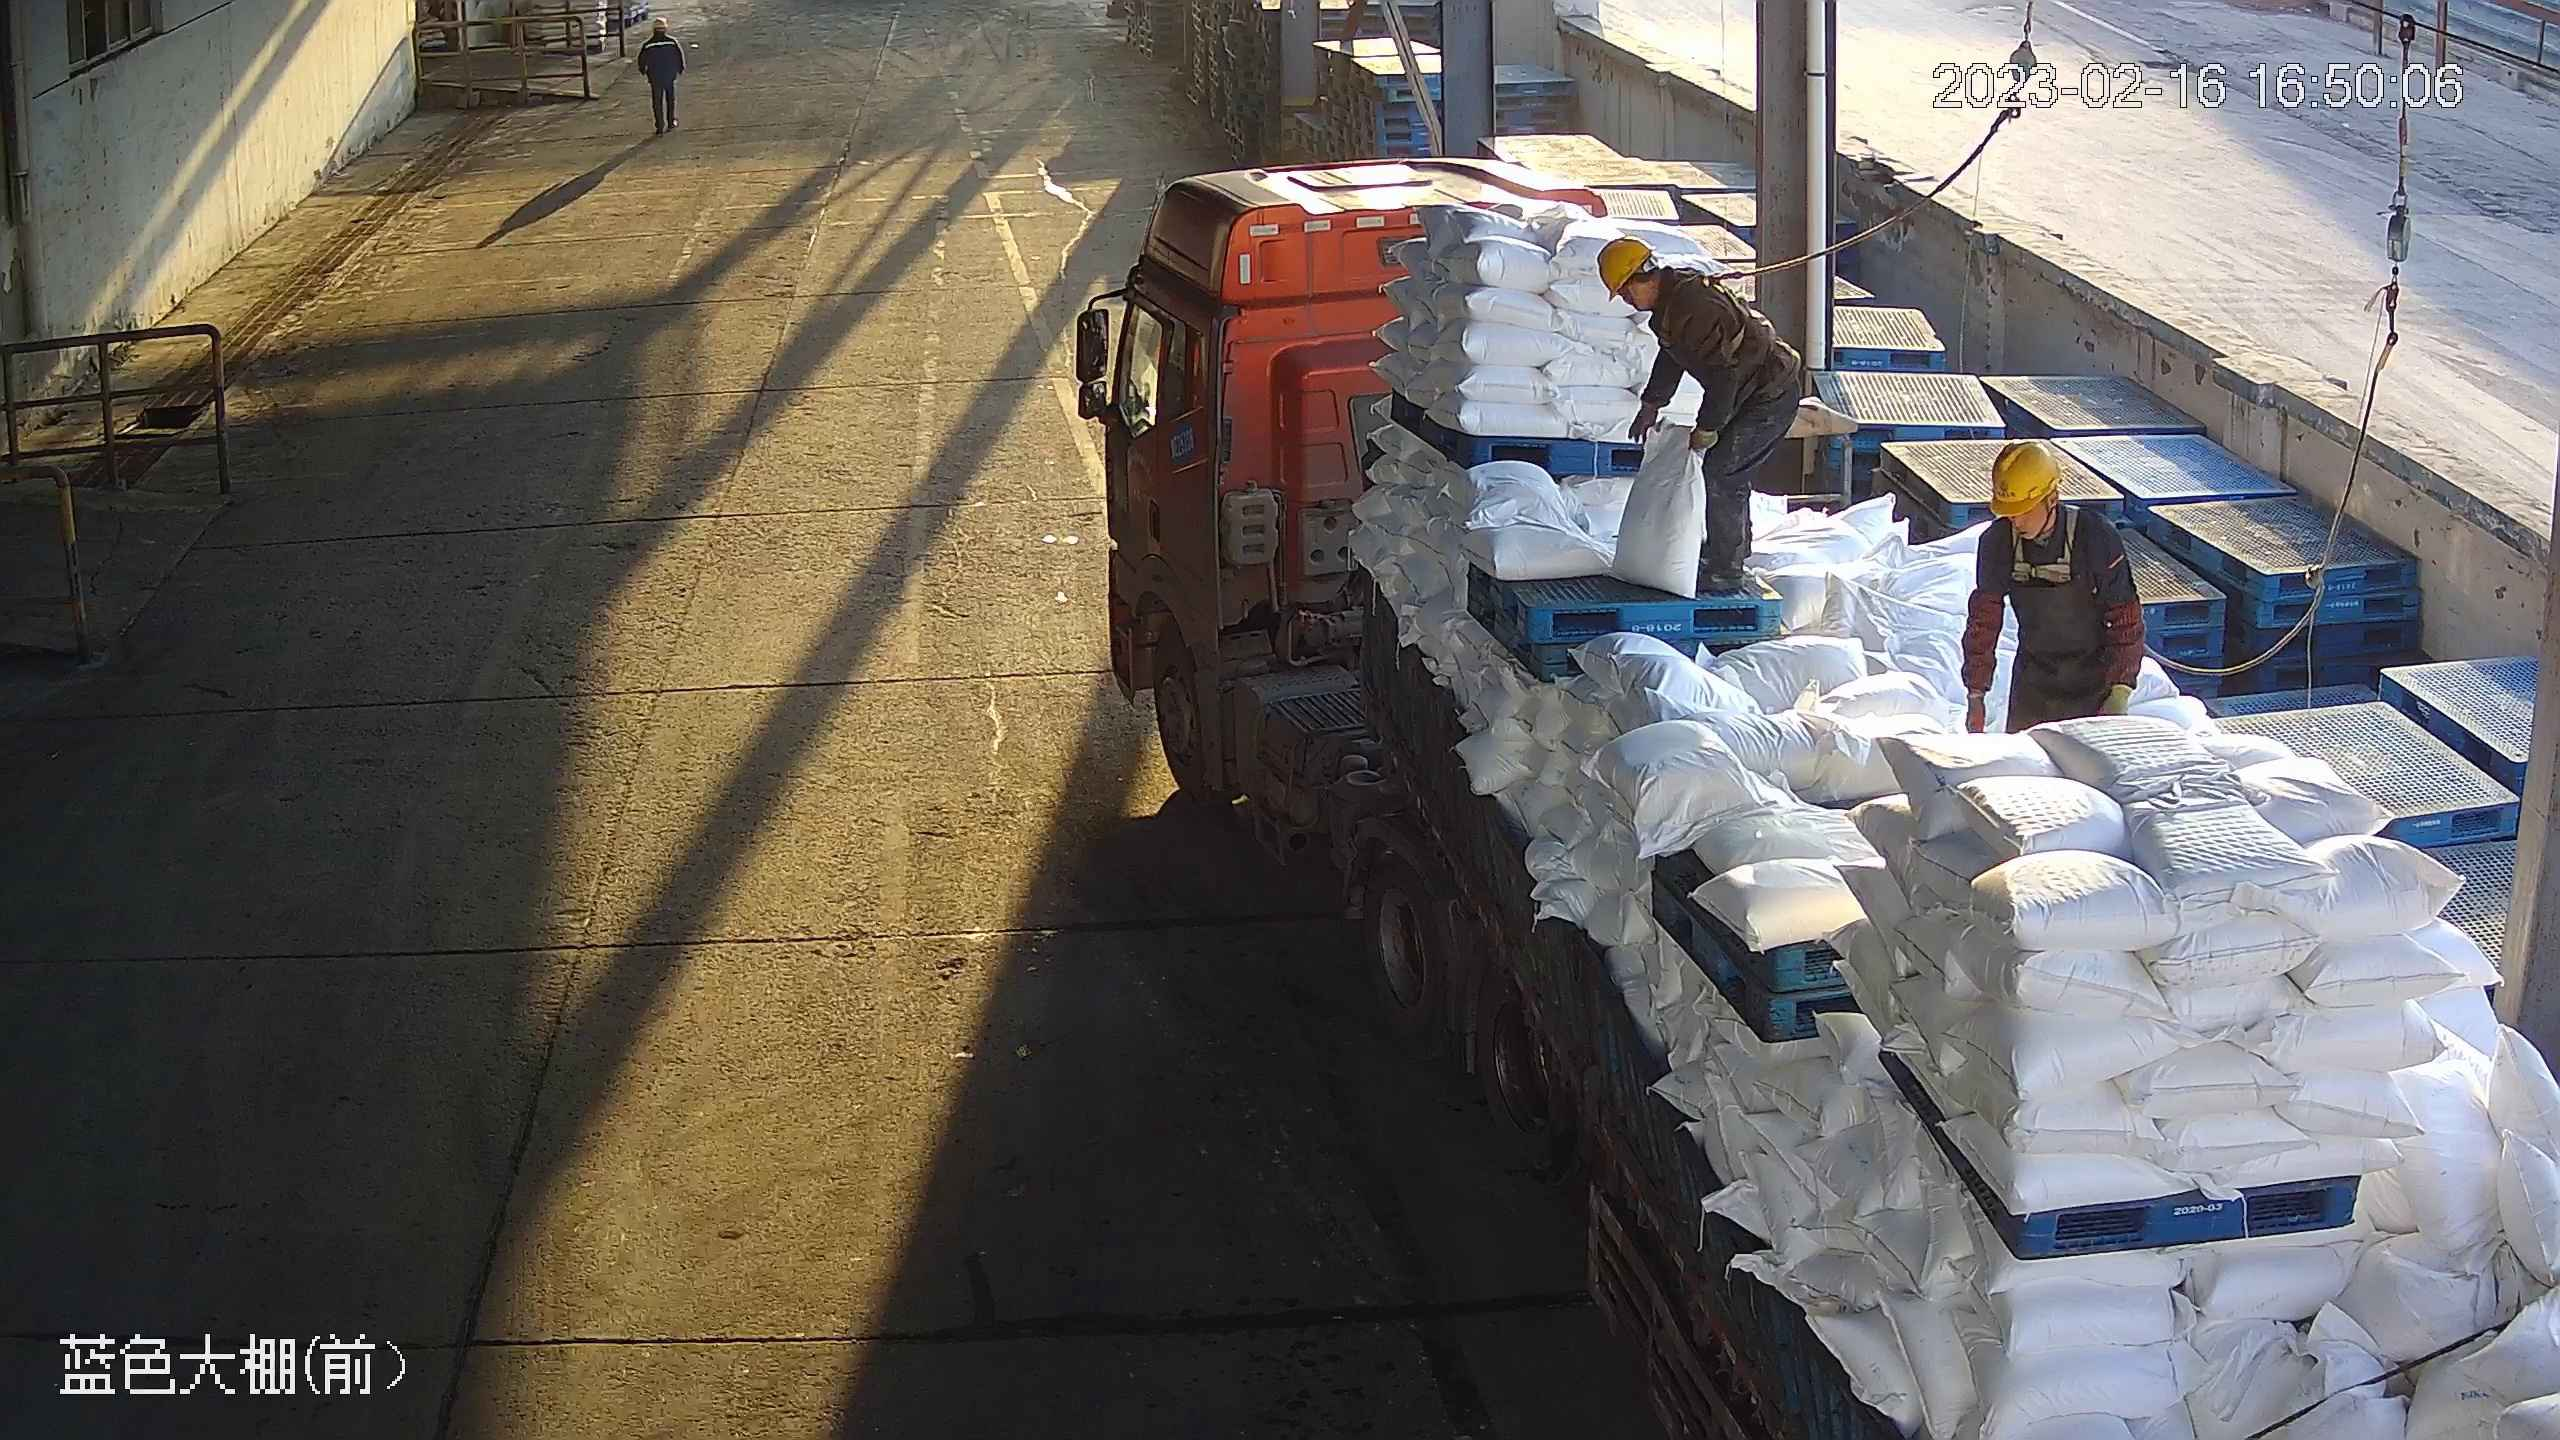belt: (1660, 266, 1748, 356), (2010, 504, 2082, 586)
head: (1972, 440, 2121, 567), (1597, 237, 1718, 345)
helmet: (1986, 438, 2066, 519), (1597, 236, 1660, 301)
people: (1597, 235, 1803, 594), (1959, 438, 2145, 735)
truck: (1072, 154, 2560, 1440)
